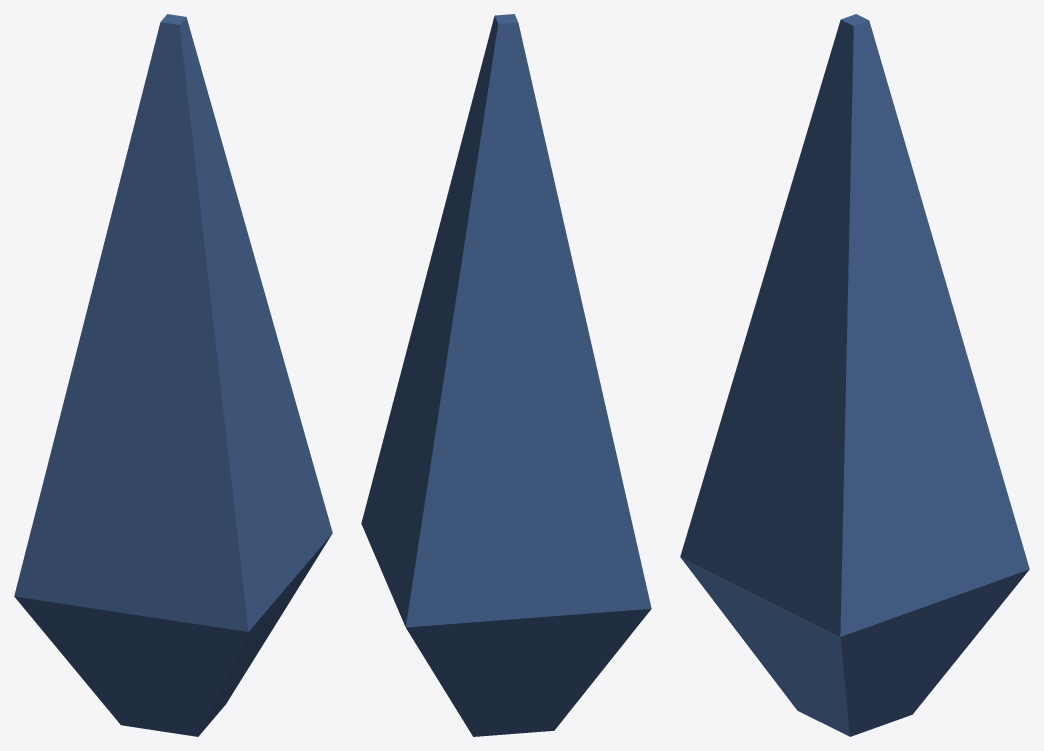
File: tree-winter-leaves-027.glb
3 renders of one model, left to right at view 1: azimuth 30°, elevation 25°; view 2: azimuth 150°, elevation 25°; view 3: azimuth 270°, elevation 25°, orthographic.
Parts seen in each view (by area): view 1: Plane.070_161; view 2: Plane.070_161; view 3: Plane.070_161.
Part boxes in pixels (x1,y1,x2,y2): Plane.070_161: (14,14,332,736); Plane.070_161: (361,14,651,736); Plane.070_161: (680,14,1029,736).
Bounding box in the file's own units: 0.6307 × 1.38 × 0.6307.
